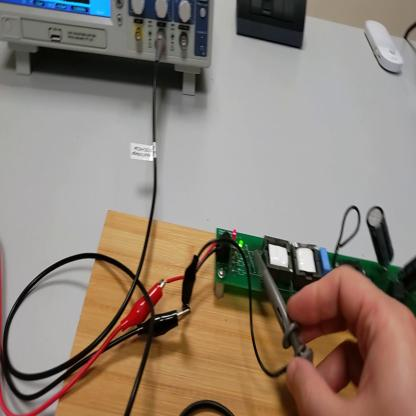hand: (283, 268, 416, 415)
high voltage board: (164, 210, 416, 322)
oscilloscope: (1, 2, 217, 95)
oscilloscope probe tip: (251, 250, 313, 370)
working area: (56, 212, 362, 416)
